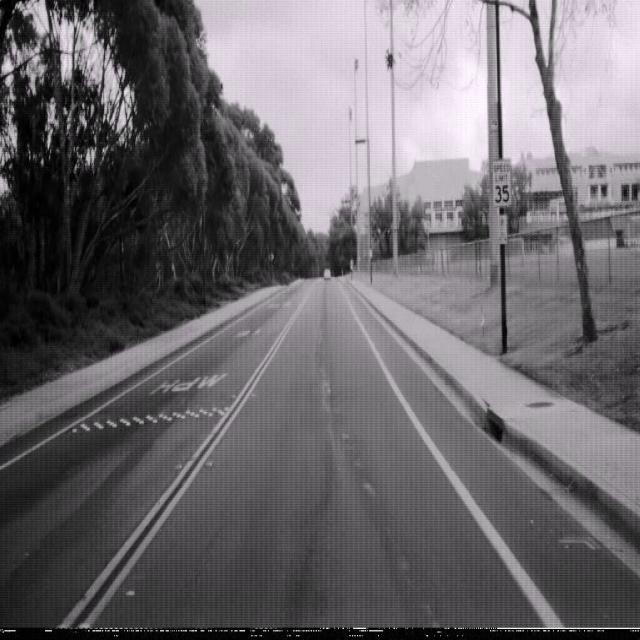speedLimit35: (491, 157, 512, 207)
